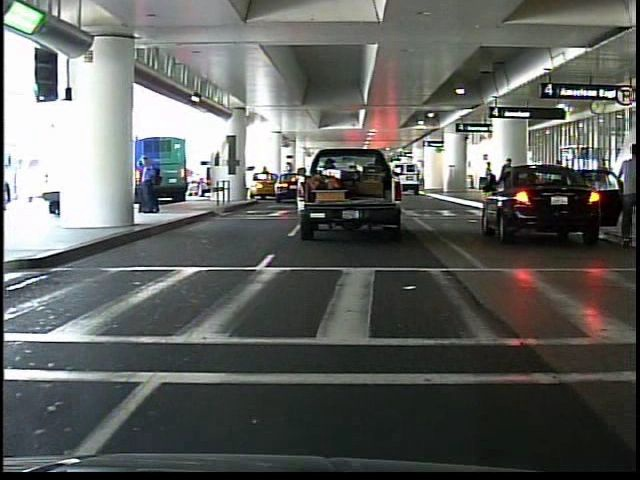person: (137, 153, 163, 217)
